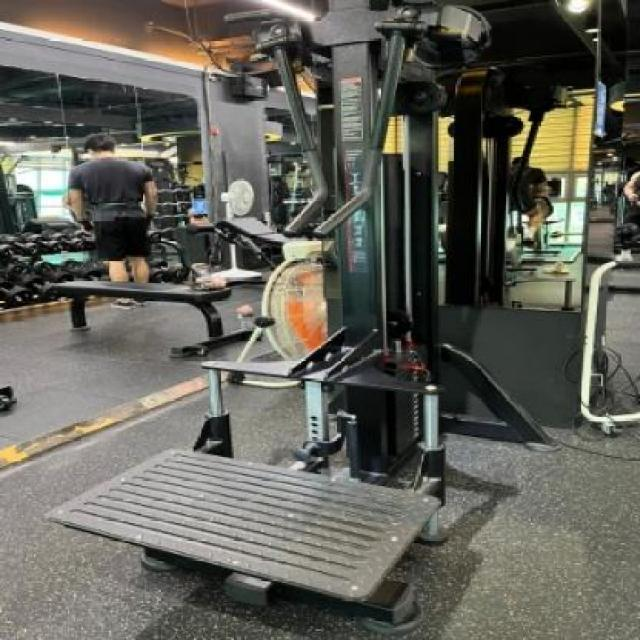lateral raises machine: (229, 1, 505, 634)
